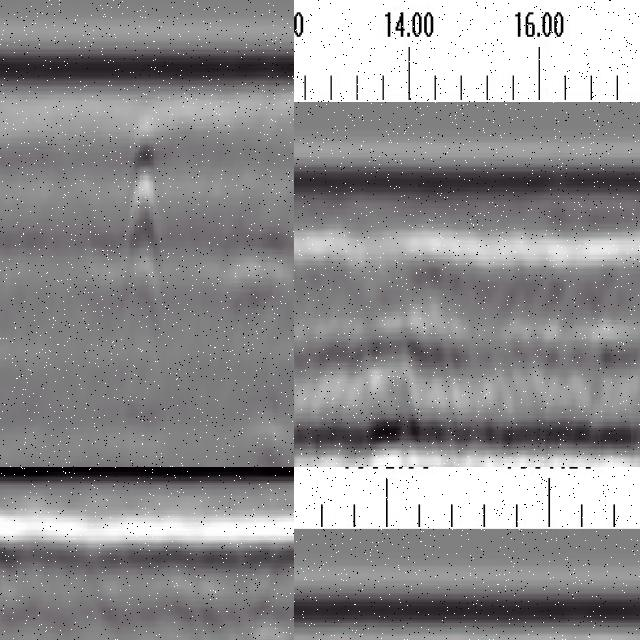crack: (110, 109, 170, 334)
